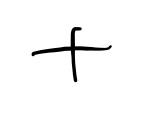plus: (31, 27, 112, 83)
